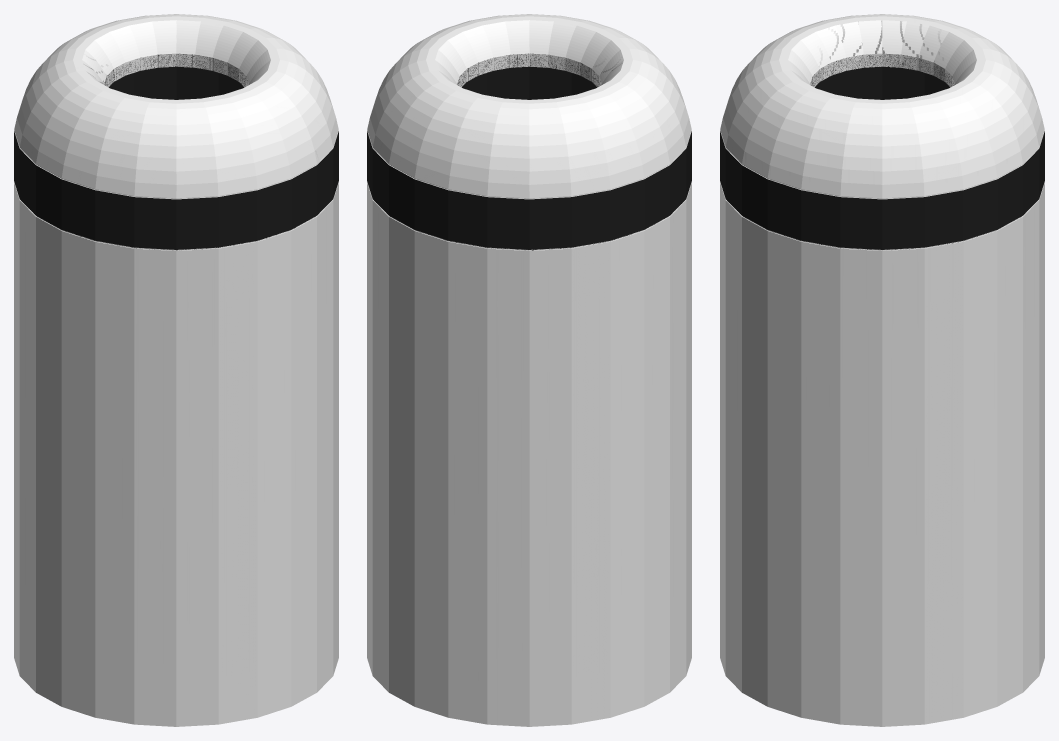
The picture shows the model from 3 angles, left to right: view 1: azimuth 30°, elevation 25°; view 2: azimuth 150°, elevation 25°; view 3: azimuth 270°, elevation 25°; orthographic projection.
Parts seen in each view (by area): view 1: mesh1_mesh1-geometry; view 2: mesh1_mesh1-geometry; view 3: mesh1_mesh1-geometry.
Part boxes in pixels (x1,y1,x2,y2): mesh1_mesh1-geometry: (14,14,338,726); mesh1_mesh1-geometry: (367,14,691,726); mesh1_mesh1-geometry: (720,14,1044,726).
Bounding box in the file's own units: 0.4037 × 0.821 × 0.4037.
